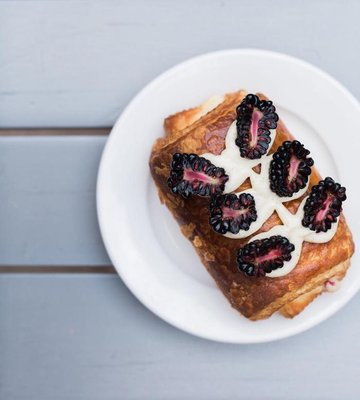curry: (0, 4, 360, 392)
sushi: (148, 88, 355, 321)
